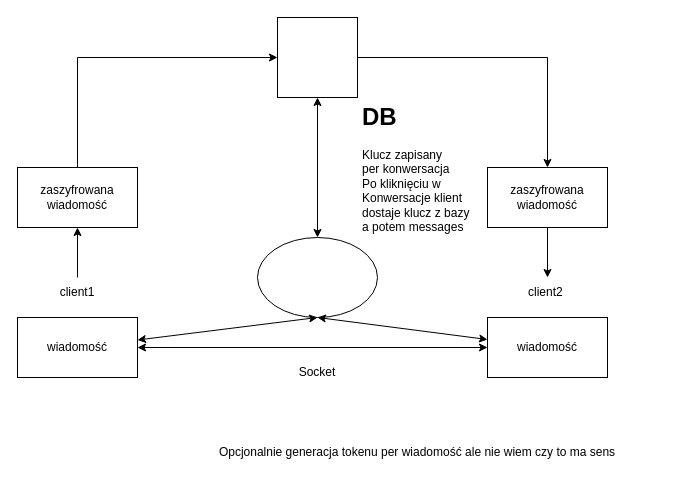
The diagram is 675 pixels wide and 485 high, and some of its shapes have lost their labels. The shapes that lost their labels are listed below. From the top down, each one's box as (x1, y1, x2, y2) in pixels, then its label:
(276, 16, 358, 98): Serwer
(256, 236, 378, 318): Klucz
